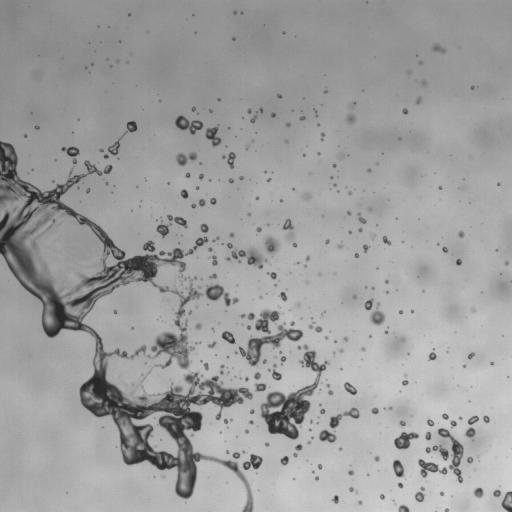droplet: (234, 309, 303, 366), (419, 428, 463, 482), (394, 432, 418, 449), (205, 125, 221, 146), (370, 302, 384, 325), (242, 454, 262, 469), (176, 152, 197, 166), (62, 146, 79, 163), (264, 236, 279, 255), (319, 429, 336, 442), (222, 152, 235, 168), (392, 460, 404, 477), (501, 491, 511, 511), (156, 222, 170, 236), (221, 331, 235, 343), (108, 140, 119, 155), (414, 487, 425, 502), (344, 382, 357, 394), (125, 121, 137, 132), (432, 44, 445, 53), (473, 487, 483, 498), (364, 298, 373, 310), (254, 383, 267, 391), (346, 114, 355, 124), (428, 350, 436, 360), (398, 504, 409, 511), (180, 189, 188, 198), (382, 236, 391, 244), (279, 291, 287, 300), (280, 456, 288, 465), (303, 192, 311, 200), (200, 224, 208, 232), (493, 489, 501, 497), (211, 255, 217, 265), (250, 114, 257, 122), (208, 341, 216, 348), (267, 272, 276, 278), (427, 419, 434, 426), (450, 420, 457, 427), (363, 244, 369, 252), (280, 356, 286, 364), (425, 432, 431, 440), (332, 495, 338, 503), (210, 273, 217, 279), (254, 372, 260, 379), (371, 408, 378, 414), (483, 415, 489, 422), (210, 198, 216, 204), (458, 231, 464, 237), (195, 323, 201, 329), (468, 352, 474, 358), (402, 379, 408, 385), (442, 413, 448, 419), (399, 421, 405, 427), (467, 457, 473, 463), (397, 482, 403, 488), (416, 97, 421, 104), (203, 363, 208, 370), (402, 108, 407, 114), (442, 246, 447, 252), (456, 259, 461, 265), (348, 470, 354, 475), (350, 102, 355, 107), (228, 178, 233, 183), (337, 243, 342, 248), (374, 456, 379, 461), (317, 464, 322, 469), (300, 116, 305, 120), (34, 125, 39, 129), (199, 174, 203, 179), (256, 227, 261, 231), (229, 232, 233, 237), (325, 239, 329, 244), (305, 256, 309, 261), (400, 337, 405, 341), (328, 390, 332, 395), (320, 408, 324, 413), (349, 487, 354, 491), (380, 494, 384, 499), (358, 500, 362, 505), (321, 133, 324, 139), (422, 81, 426, 85), (277, 94, 281, 98), (271, 113, 275, 117), (104, 154, 108, 158), (185, 173, 189, 177), (239, 176, 243, 180), (86, 188, 90, 192), (208, 247, 212, 251), (354, 253, 358, 257), (398, 310, 402, 314), (246, 325, 250, 329), (343, 337, 347, 341), (361, 347, 365, 351), (250, 409, 254, 413), (249, 420, 253, 424), (244, 429, 248, 433), (265, 442, 269, 446), (340, 153, 343, 158), (444, 508, 449, 511), (248, 109, 251, 113), (259, 108, 263, 111), (347, 211, 350, 215), (358, 228, 362, 231), (226, 257, 230, 260), (504, 262, 508, 265), (471, 308, 474, 312), (384, 330, 388, 333), (196, 341, 200, 344), (340, 348, 343, 352), (245, 377, 248, 381), (419, 61, 422, 64), (471, 86, 474, 89), (192, 107, 195, 110), (286, 123, 289, 126), (24, 134, 27, 137), (367, 169, 370, 172), (267, 178, 270, 181), (196, 186, 199, 189), (247, 213, 250, 216), (353, 295, 356, 298), (188, 311, 191, 314), (263, 360, 266, 363), (440, 492, 443, 495), (233, 11, 236, 13), (333, 164, 335, 167), (372, 234, 374, 237), (385, 280, 387, 283), (296, 304, 299, 306), (114, 310, 116, 313), (410, 310, 413, 312), (325, 336, 327, 339), (491, 362, 493, 365), (327, 384, 329, 387), (459, 416, 461, 419), (339, 447, 341, 450), (315, 477, 318, 479), (209, 110, 211, 112), (120, 136, 122, 138), (100, 149, 102, 151), (497, 183, 499, 185), (439, 187, 441, 189), (349, 192, 351, 194), (256, 197, 258, 199), (278, 305, 280, 307), (322, 312, 324, 314), (369, 335, 371, 337), (463, 365, 465, 367), (147, 372, 149, 374), (389, 407, 391, 409), (310, 420, 312, 422)
ligament: (0, 141, 252, 511), (260, 344, 330, 439), (227, 243, 267, 268), (329, 407, 359, 428), (175, 115, 203, 134), (282, 218, 297, 247), (465, 416, 478, 438), (167, 214, 187, 227), (271, 364, 281, 380), (191, 199, 205, 208), (308, 323, 322, 332), (293, 444, 302, 457), (240, 312, 254, 319), (358, 213, 366, 223), (307, 436, 313, 443), (224, 418, 232, 423), (220, 364, 224, 373), (213, 237, 218, 241), (314, 109, 317, 115)
